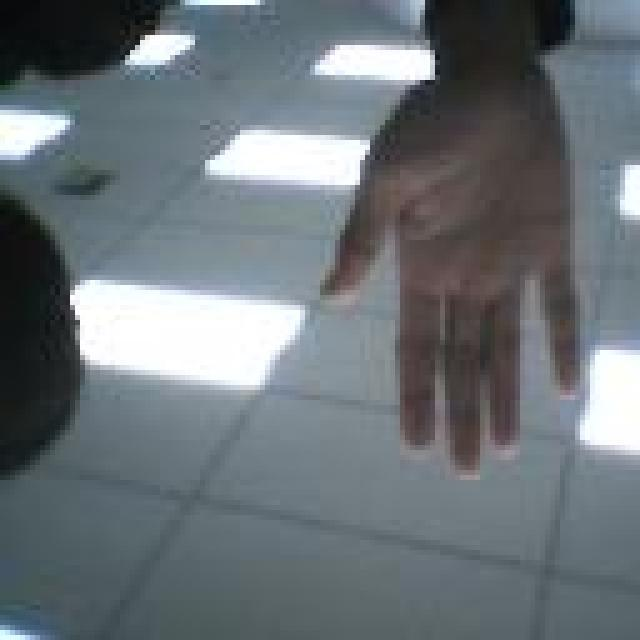Hand: (314, 26, 594, 483)
